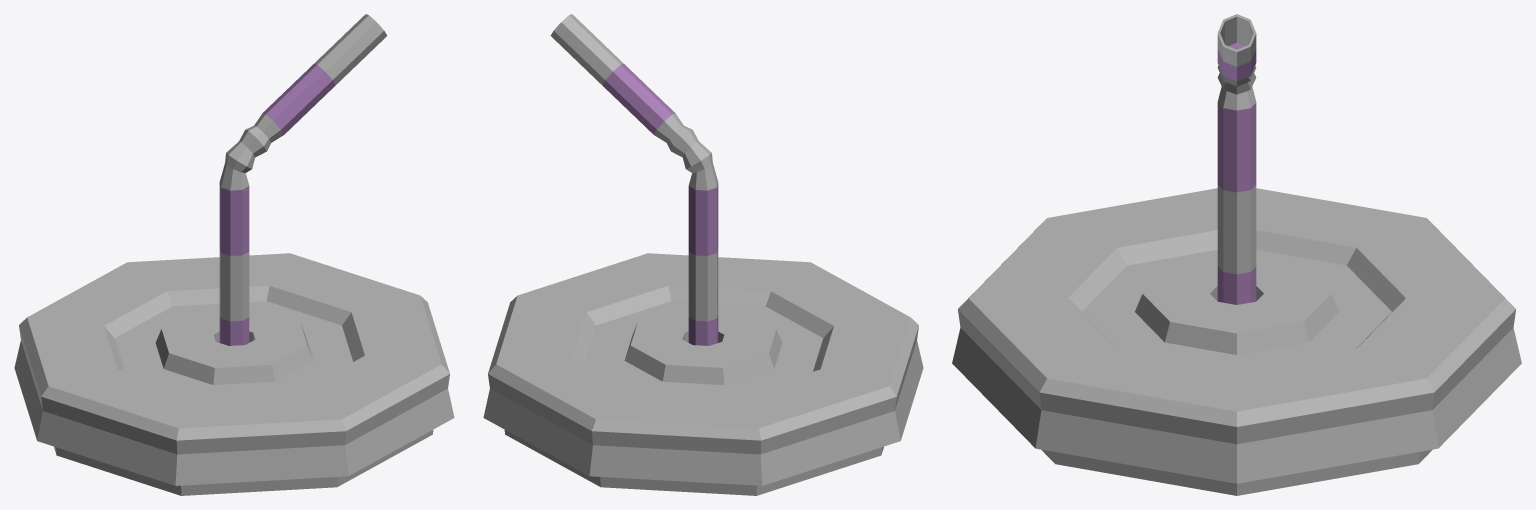
File: Soda_Lid.fbx
The picture shows the model from 3 angles, left to right: view 1: azimuth 30°, elevation 25°; view 2: azimuth 150°, elevation 25°; view 3: azimuth 270°, elevation 25°; orthographic projection. The views are drawn at different scales.
Visible parts, largest first — view 1: Cylinder.001; view 2: Cylinder.001; view 3: Cylinder.001.
Part boxes in pixels (x1=…): Cylinder.001: x1=14, y1=14, x2=454, y2=495; Cylinder.001: x1=483, y1=14, x2=923, y2=495; Cylinder.001: x1=952, y1=14, x2=1521, y2=495.
Bounding box in the file's own units: 91.18 × 80.4 × 91.18.
